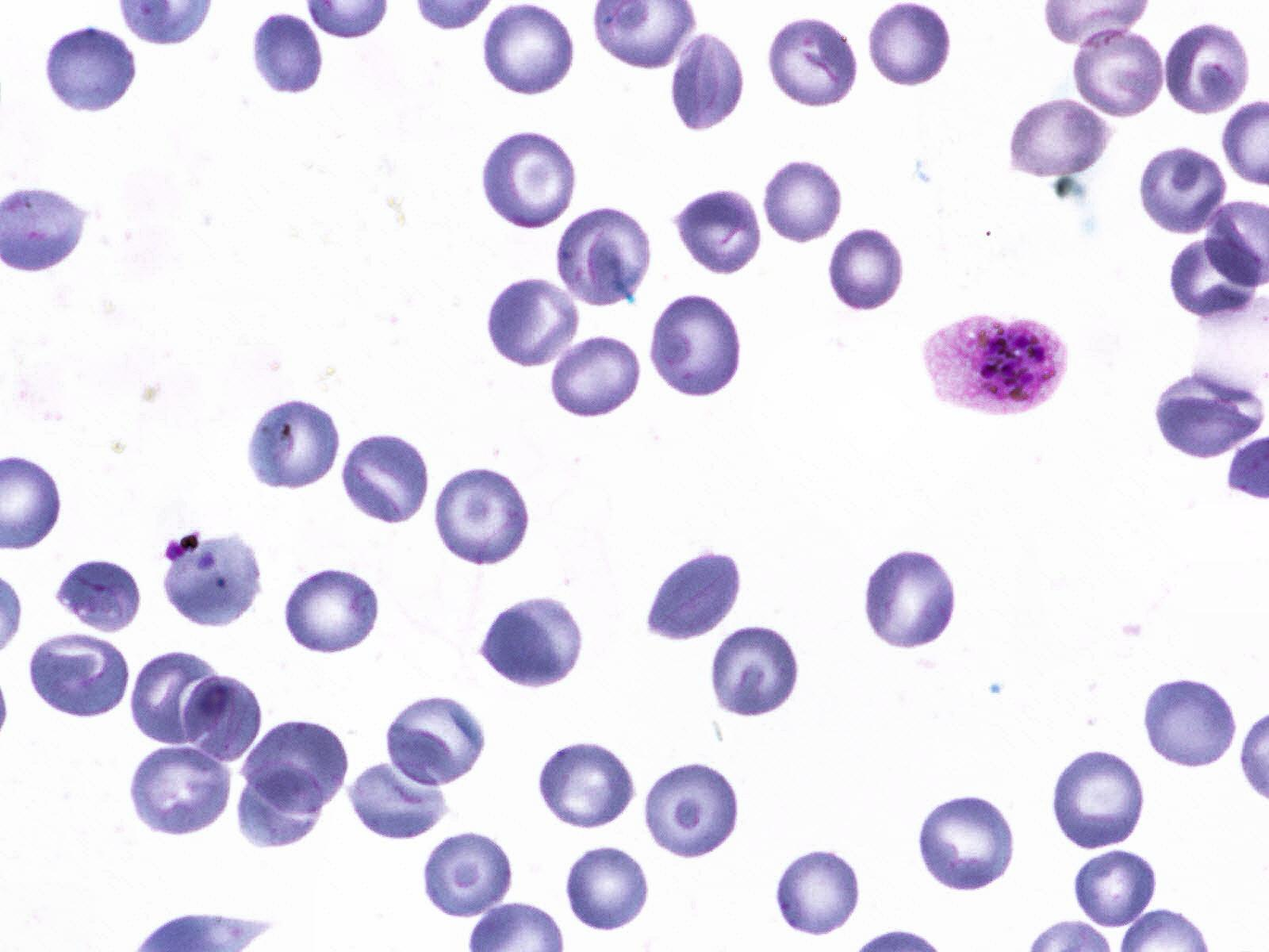Infected: (922, 313, 1068, 416)
Uninfected: (125, 743, 236, 835), (1148, 370, 1264, 458), (557, 203, 653, 309), (240, 720, 349, 813), (159, 532, 261, 630), (479, 127, 575, 230), (646, 291, 738, 398), (917, 795, 1016, 894), (1051, 752, 1148, 853), (433, 466, 527, 569), (385, 697, 488, 790), (476, 597, 580, 688), (863, 549, 955, 651), (642, 552, 744, 644), (129, 650, 226, 746), (642, 762, 738, 859), (1068, 26, 1165, 121), (482, 2, 577, 98), (247, 398, 343, 493), (347, 754, 450, 841), (671, 183, 764, 279), (485, 276, 583, 367), (1140, 678, 1236, 769), (769, 12, 859, 109), (537, 740, 633, 830), (1165, 17, 1251, 117), (707, 624, 796, 720), (28, 635, 129, 719), (46, 23, 139, 114), (284, 566, 378, 656), (421, 831, 516, 920), (1005, 101, 1112, 178), (1167, 232, 1263, 317), (178, 670, 264, 764), (1141, 140, 1226, 235), (236, 755, 325, 845), (342, 433, 430, 524), (671, 28, 743, 136), (550, 334, 639, 420), (866, 0, 950, 89), (776, 848, 861, 935), (563, 845, 648, 929), (763, 155, 843, 244), (1072, 850, 1156, 931), (55, 555, 140, 635), (826, 225, 904, 311), (247, 12, 327, 94)
